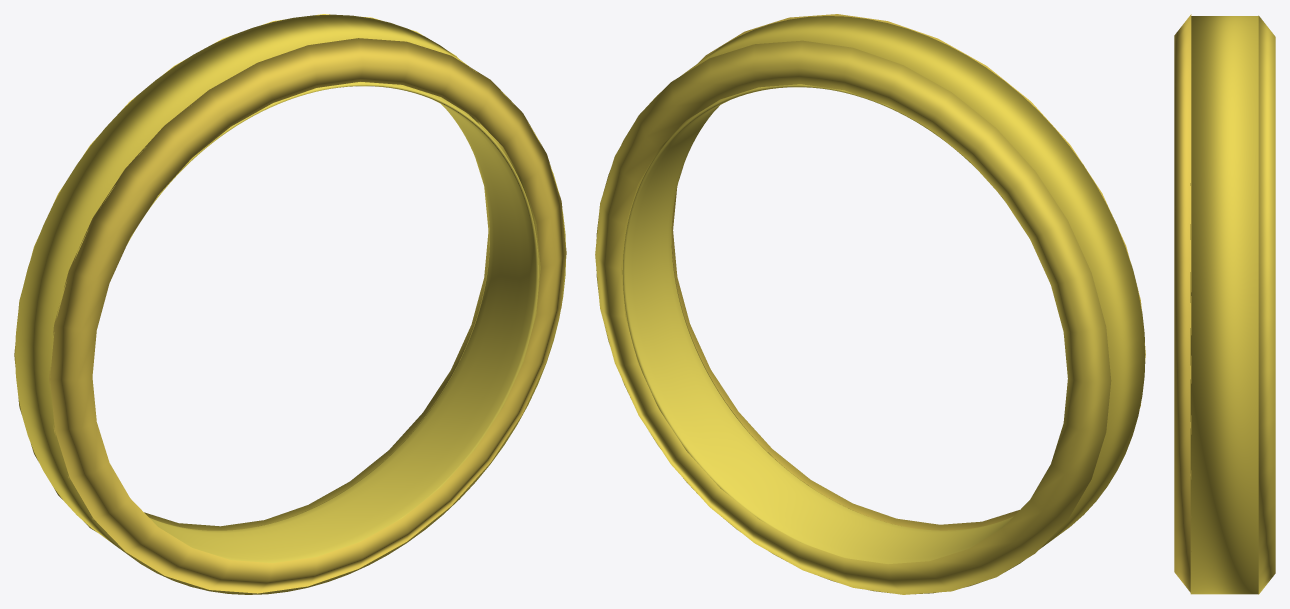
File: ringchanffina.glb
The picture shows the model from 3 angles, left to right: view 1: azimuth 30°, elevation 25°; view 2: azimuth 150°, elevation 25°; view 3: azimuth 270°, elevation 25°; orthographic projection. The views are drawn at different scales.
Parts seen in each view (by area): view 1: Circle; view 2: Circle; view 3: Circle.
Boxes of the visible parts, bbox=[...] form: Circle: bbox=[14, 14, 566, 594]; Circle: bbox=[595, 14, 1145, 594]; Circle: bbox=[1174, 14, 1275, 594].
Size of the model in its own units: 1.88 by 1.89 by 0.3289.
